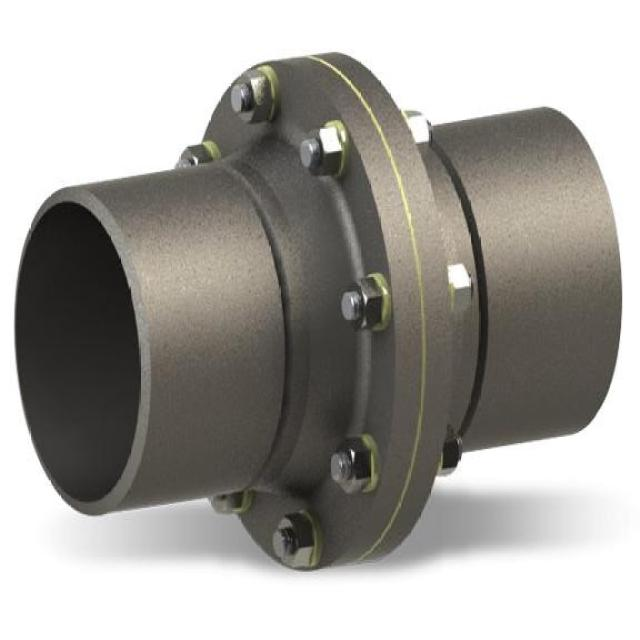bolt nut: (231, 65, 273, 129), (271, 510, 315, 568), (344, 274, 384, 335), (331, 434, 369, 495), (302, 123, 343, 179)
